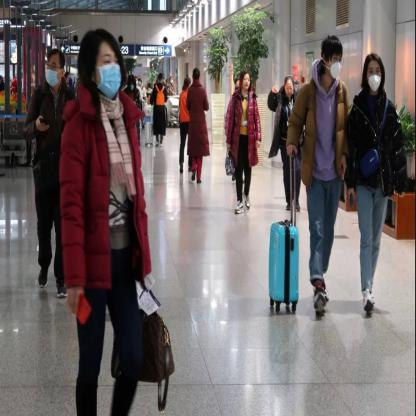Not_Wearing_Mask: (283, 81, 294, 96), (241, 75, 251, 88)
Wearing_Mask: (96, 50, 122, 99), (44, 59, 60, 87), (367, 63, 382, 92), (330, 54, 342, 79)
